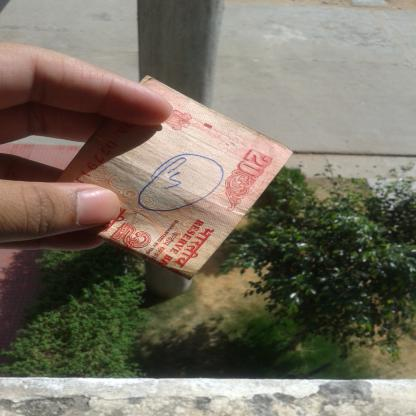Old20Front: (37, 86, 272, 260)
